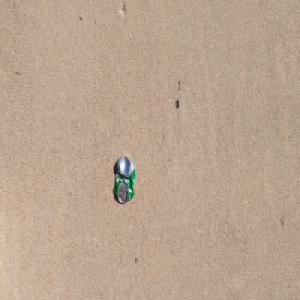SodaCan: (114, 154, 136, 204)
